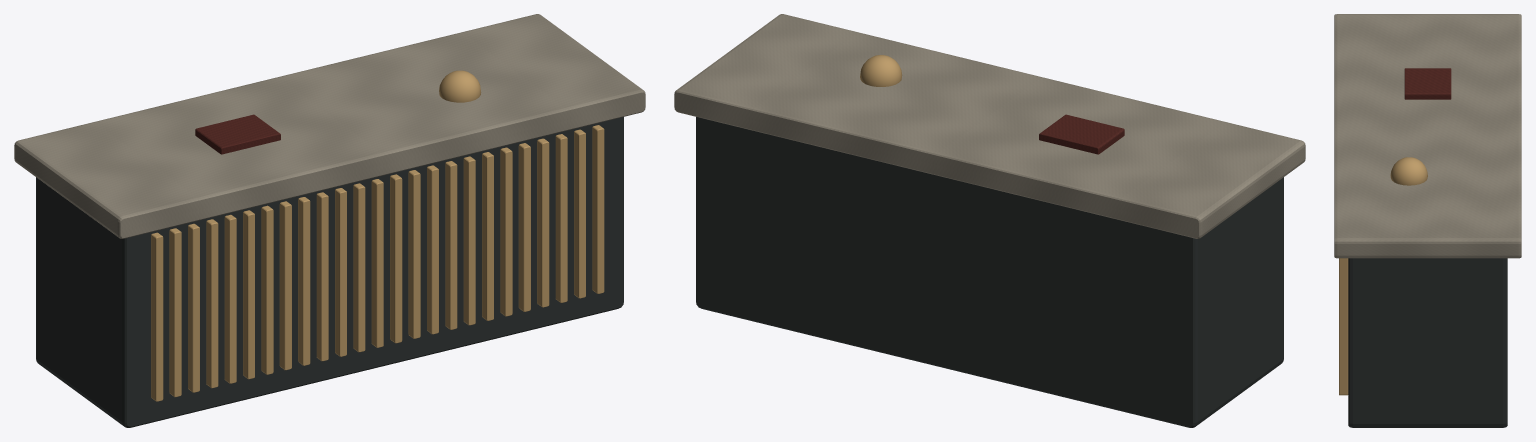
The model's file is reception.glb.
3 views of the same model, side by side, from view 1: azimuth 30°, elevation 25°; view 2: azimuth 150°, elevation 25°; view 3: azimuth 270°, elevation 25° (orthographic). The views are drawn at different scales.
Visible parts, largest first — view 1: top, body, flute--3, flute-5, flute-7, flute--1, flute--11, flute--9, flute--8, flute-4, flute--12, flute--5 (+17 smaller); view 2: body, top, ledger, bell; view 3: top, body, ledger, flute-12, bell.
Boxes of the visible parts, box(x1,y1,x2,y2) form: top: box(14, 14, 645, 238); body: box(36, 117, 623, 427); flute--3: box(316, 192, 328, 361); flute-5: box(463, 156, 475, 325); flute-7: box(500, 147, 512, 316); flute--1: box(353, 183, 365, 352); flute--11: box(169, 228, 181, 397); flute--9: box(206, 219, 218, 388); flute--8: box(224, 214, 236, 383); flute-4: box(445, 161, 457, 329); flute--12: box(151, 232, 163, 401); flute--5: box(279, 201, 291, 370); body: box(696, 117, 1283, 427); top: box(674, 14, 1305, 238); ledger: box(1039, 114, 1124, 154); bell: box(860, 55, 902, 86); top: box(1334, 14, 1521, 258); body: box(1348, 258, 1507, 427); ledger: box(1404, 68, 1451, 99); flute-12: box(1339, 258, 1348, 395); bell: box(1390, 157, 1427, 185).
Bounding box in the file's own units: 2.87 × 1.26 × 1.
Materials: 4 (2 with a texture image).
